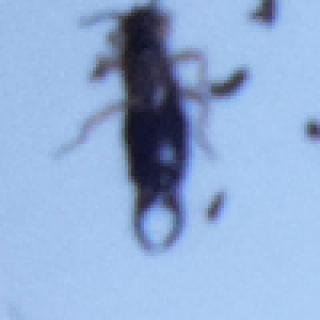earwig: (52, 0, 225, 272)
